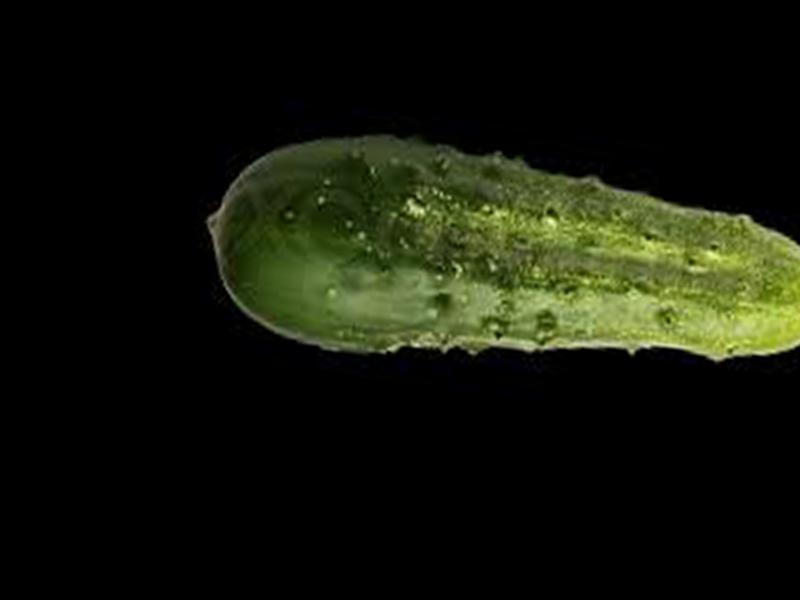Cucumber: (194, 110, 800, 409)
